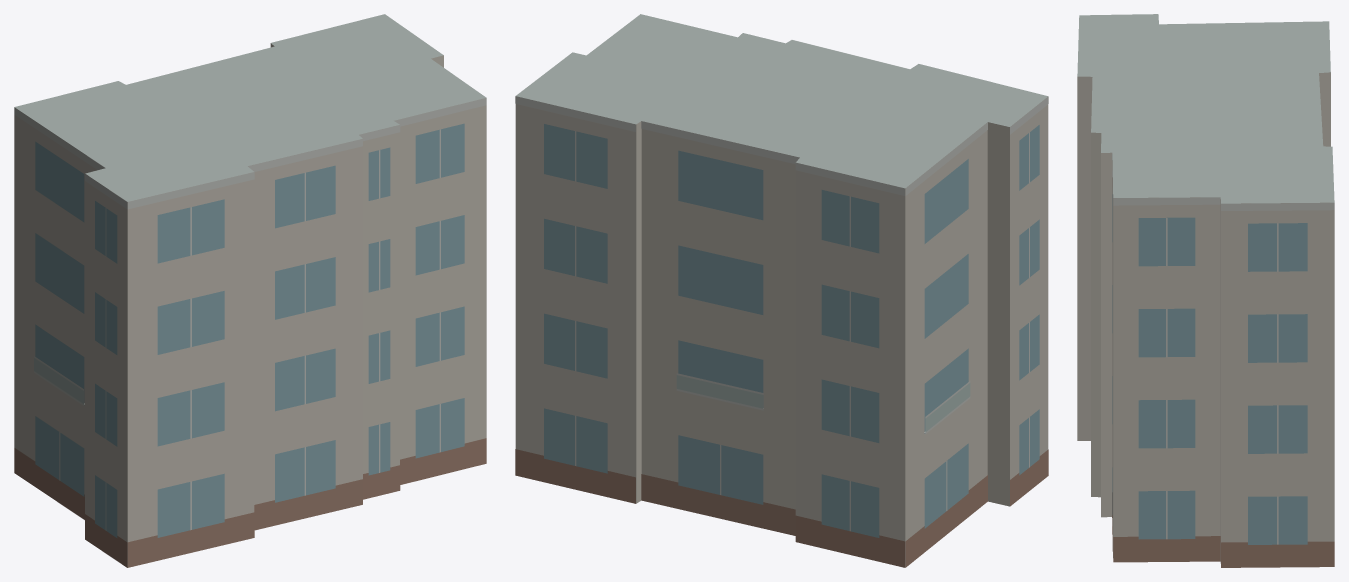
The model's file is survey-upis-32797017.glb.
The picture shows the model from 3 angles, left to right: view 1: azimuth 30°, elevation 25°; view 2: azimuth 150°, elevation 25°; view 3: azimuth 270°, elevation 25°; orthographic projection. The views are drawn at different scales.
Visible parts, largest first — view 1: survey-upis-32797017.tmp; view 2: survey-upis-32797017.tmp; view 3: survey-upis-32797017.tmp.
Boxes of the visible parts, x1,y1,x2,y2 form: survey-upis-32797017.tmp: [14, 14, 486, 567]; survey-upis-32797017.tmp: [515, 14, 1048, 567]; survey-upis-32797017.tmp: [1077, 14, 1334, 567].
Bounding box in the file's own units: 13.29 × 11.9 × 7.63.
